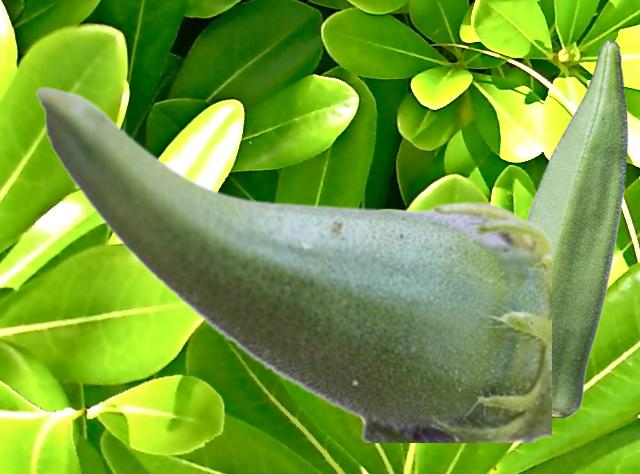okra: (34, 85, 550, 441), (524, 39, 627, 416)
